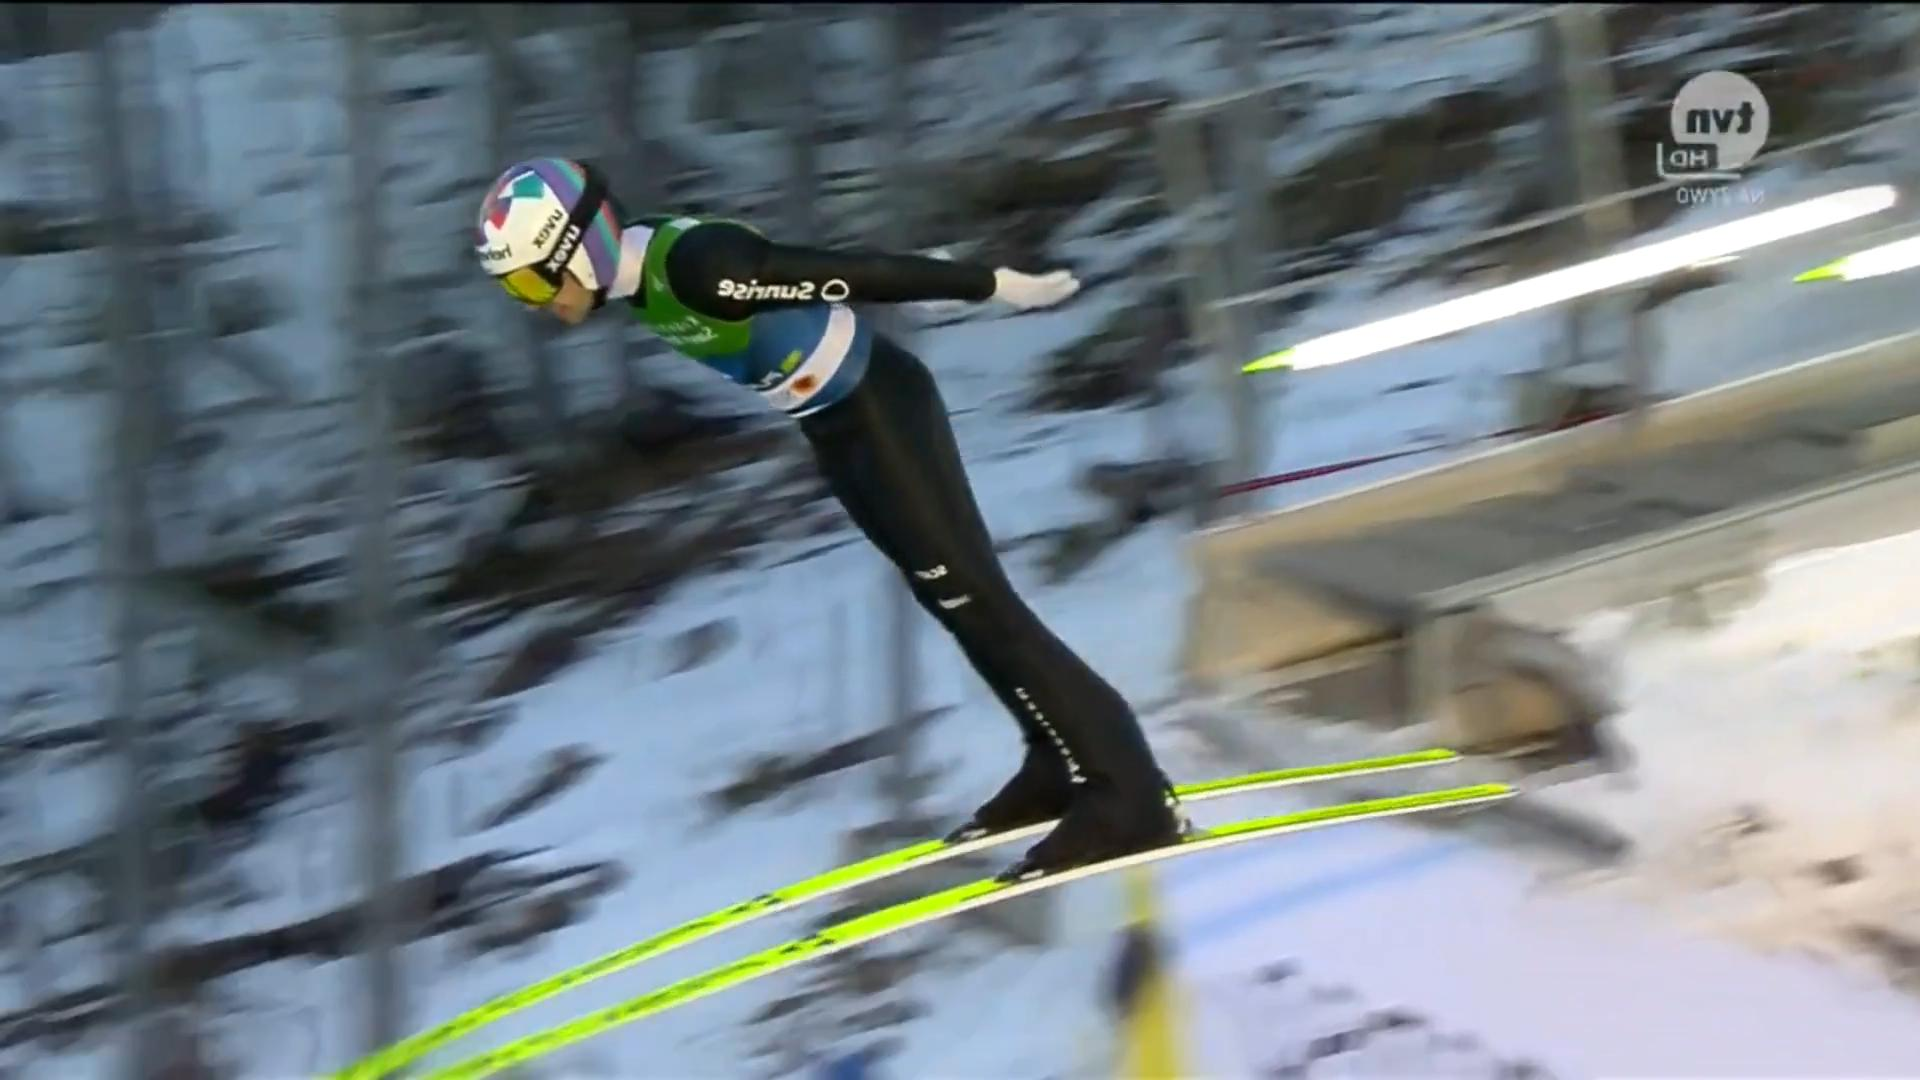prog: (1250, 549, 1536, 671)
